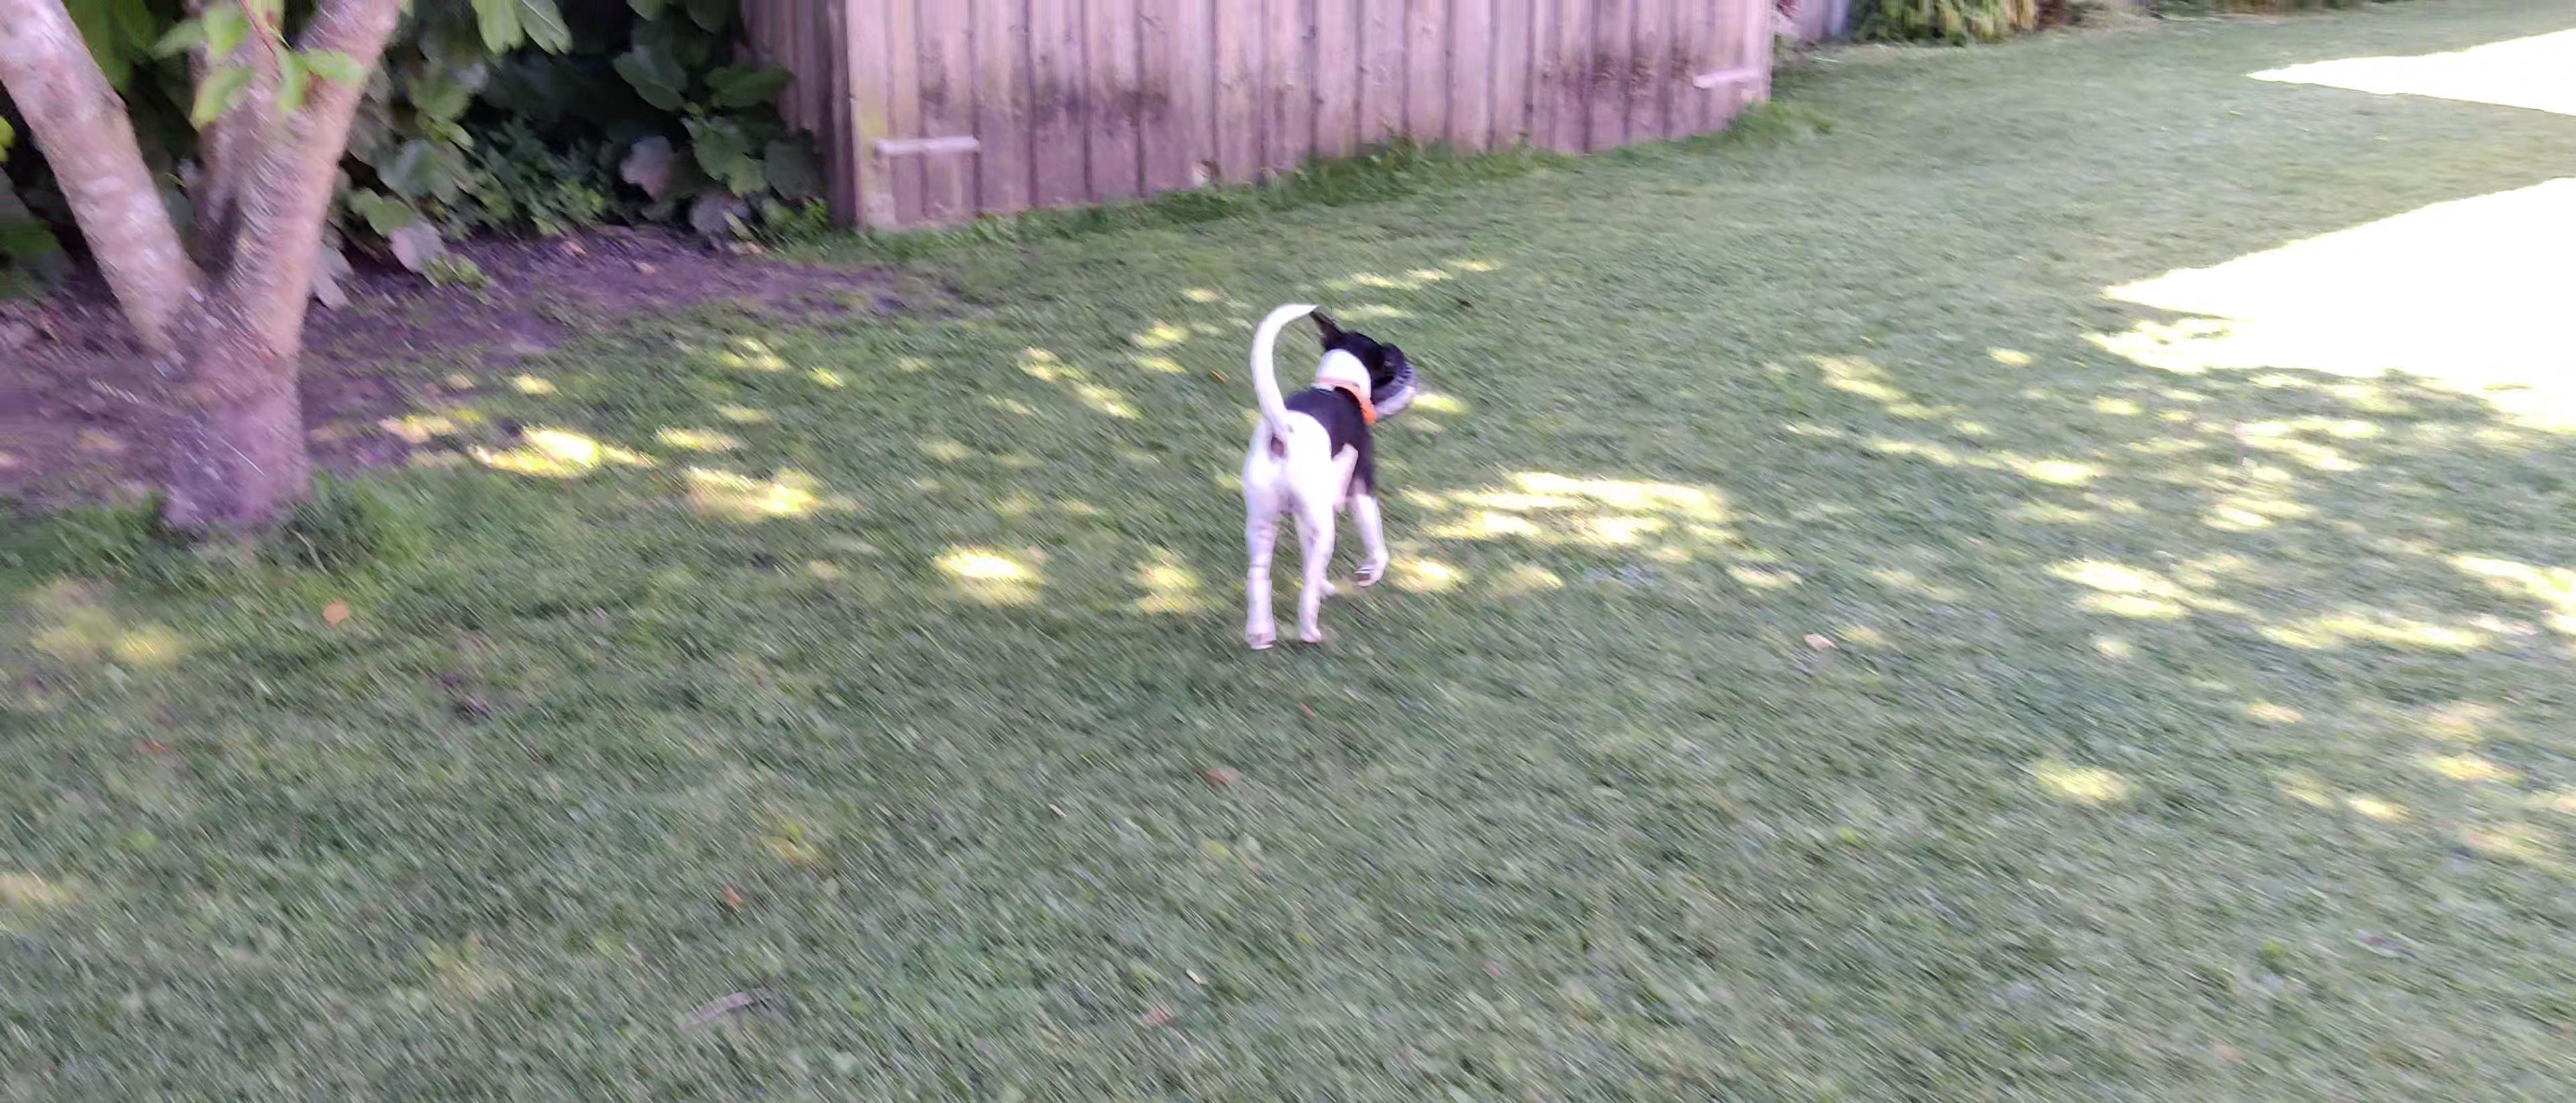Dog: (1229, 302, 1405, 658)
